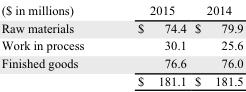table: (0, 1, 242, 88)
table column: (0, 1, 110, 88), (110, 1, 189, 88), (189, 1, 242, 88)
table column header: (0, 1, 242, 18)
table row: (0, 18, 242, 36), (0, 53, 242, 71), (0, 1, 242, 18), (0, 36, 242, 53), (0, 71, 242, 88)
